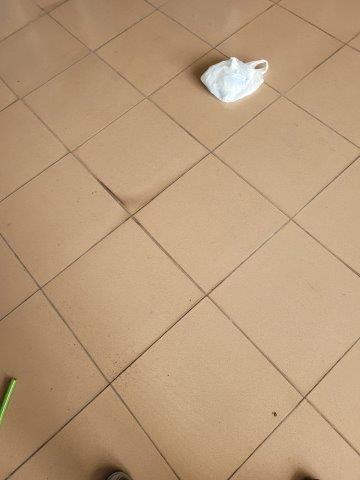plastik: (200, 56, 270, 101)
